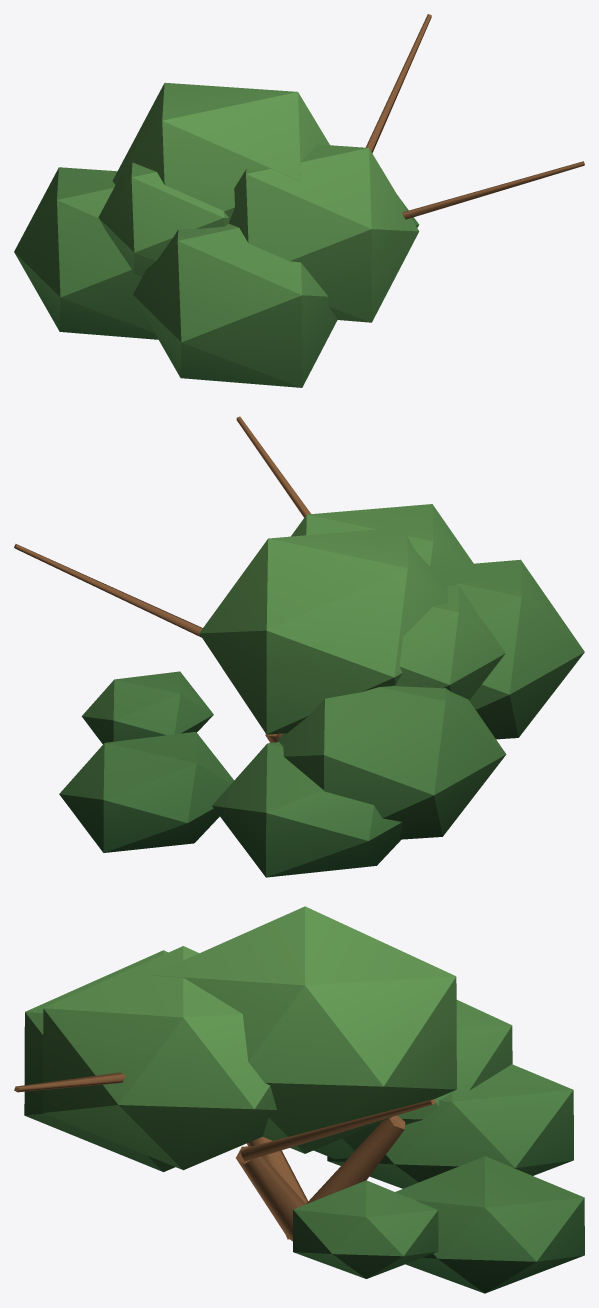
The model's file is bush.glb.
The picture shows the model from 3 angles, top to bottom: view 1: azimuth 30°, elevation 25°; view 2: azimuth 150°, elevation 25°; view 3: azimuth 270°, elevation 25°; orthographic projection. The views are drawn at different scales.
Bounding box in the file's own units: 2.14 × 1.27 × 2.22.
